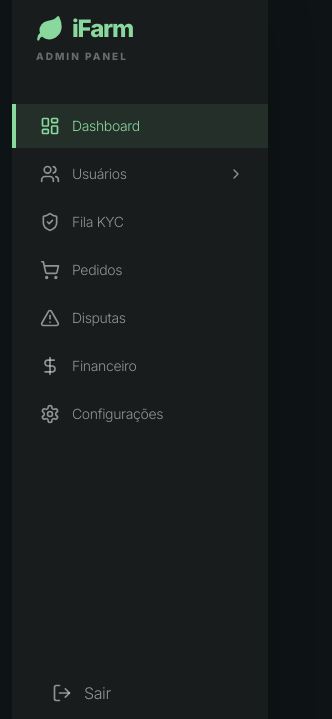
Test: Sidebar › should collapse and expand user group manually
Click the button "Usuários": (140, 174) [12,152,268,196]
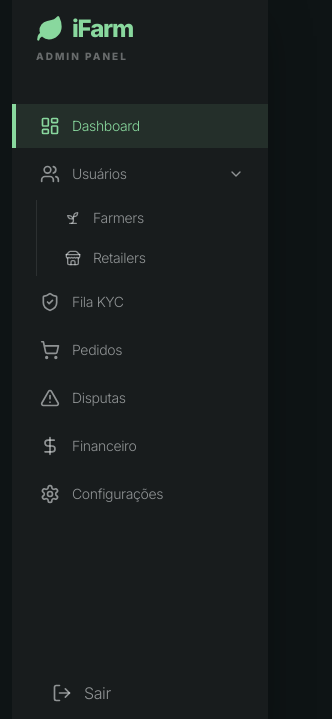
expect the link "Farmers" is shown: met, box [65,209,144,226]
Click the button "Usuários": (140, 174) [12,152,268,196]
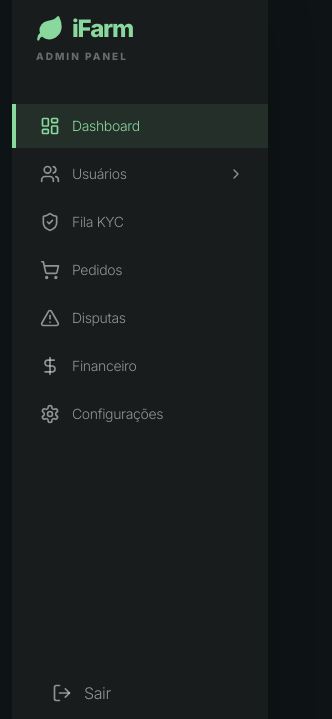
expect the link "Farmers" is gone: met
